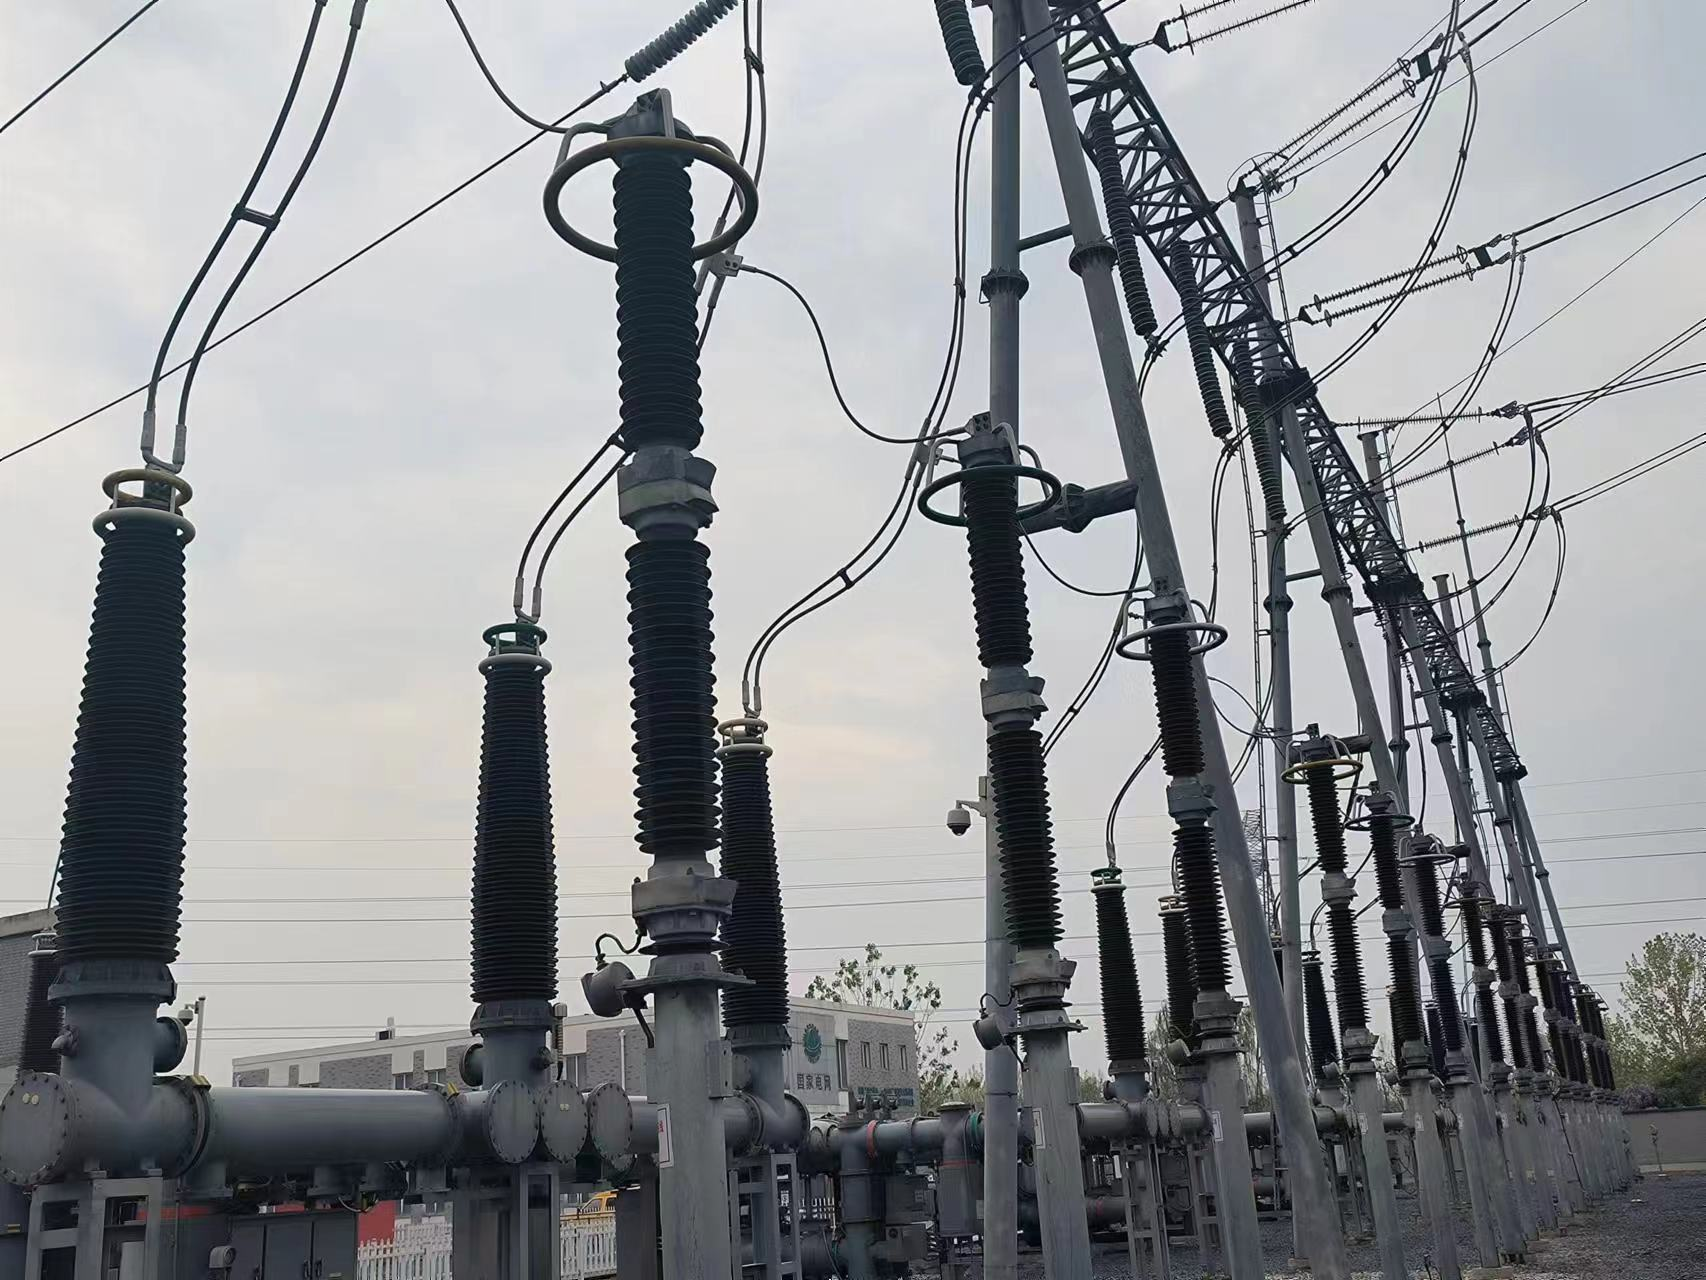Arrester: (540, 79, 760, 852), (913, 433, 1067, 947), (1110, 575, 1256, 990)
Voltage transformer: (44, 465, 200, 986), (466, 617, 563, 1007), (717, 721, 799, 1039)
